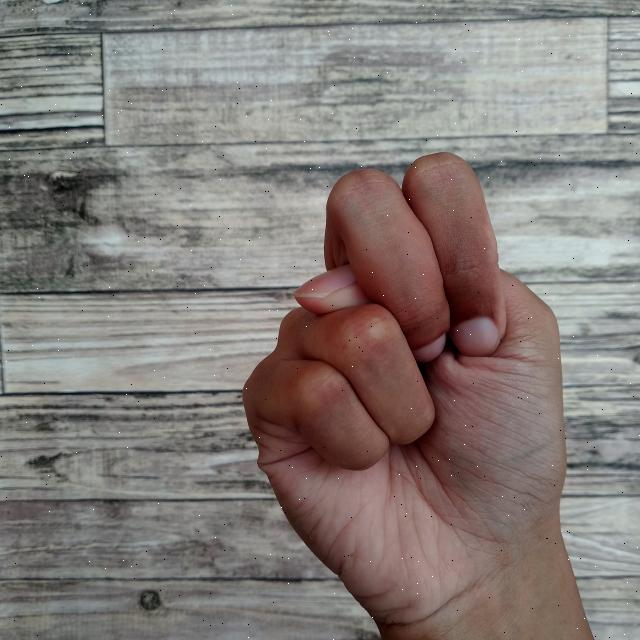N: (234, 143, 595, 640)
